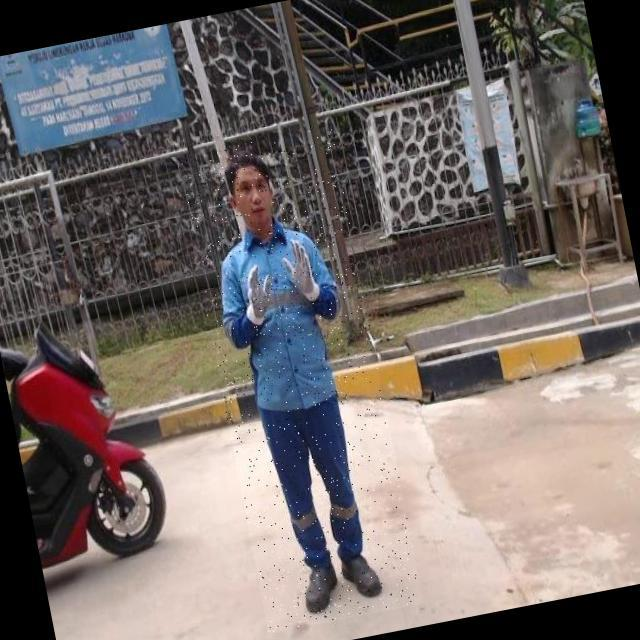Gloves: (280, 238, 325, 312), (243, 256, 277, 332)
Person: (207, 139, 401, 623)
Safety Boot: (297, 557, 346, 617), (341, 550, 388, 611)
no-helmet: (217, 153, 276, 183)
no-vest: (218, 223, 366, 416)
